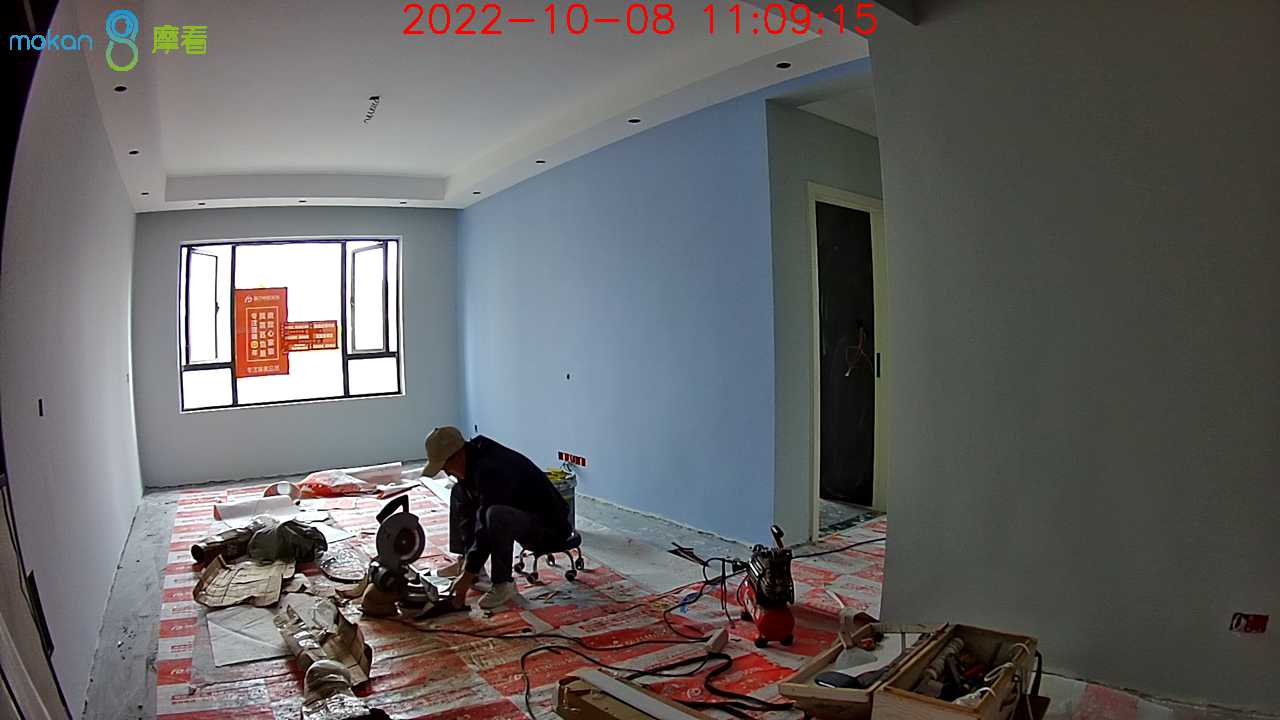people: (414, 426, 586, 615)
window: (176, 243, 405, 401)
